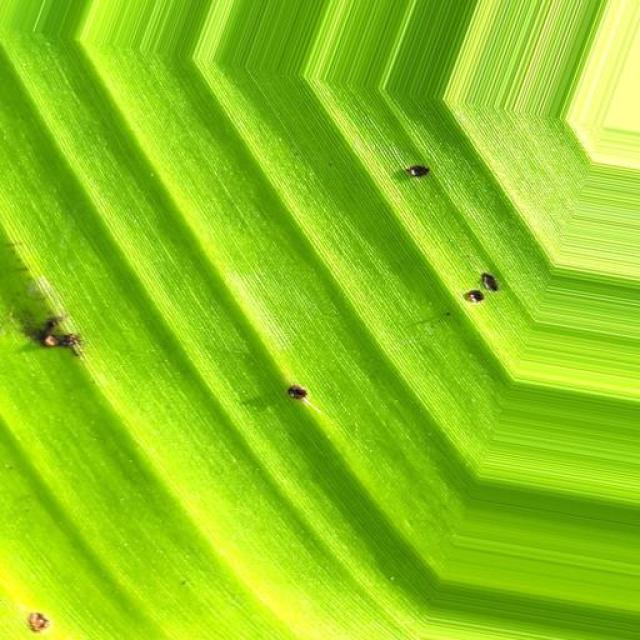Black_rot: (384, 150, 554, 325), (8, 270, 109, 388), (10, 572, 96, 640), (239, 362, 342, 418)
